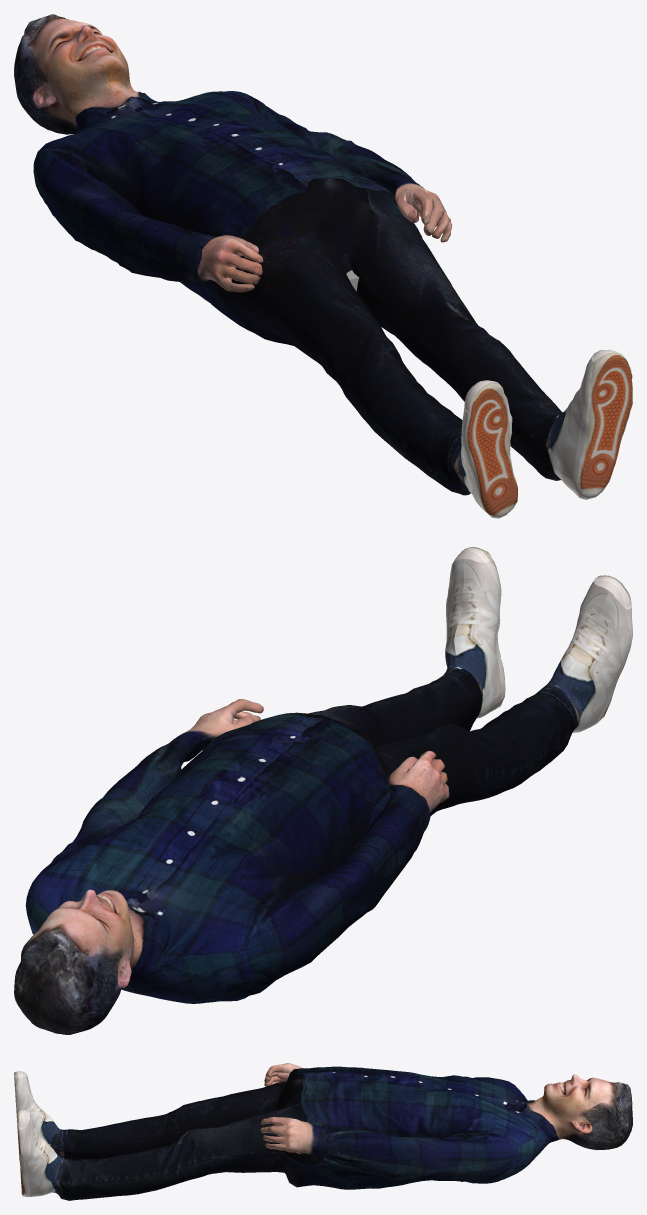
The picture shows the model from 3 angles, top to bottom: view 1: azimuth 30°, elevation 25°; view 2: azimuth 150°, elevation 25°; view 3: azimuth 270°, elevation 25°; orthographic projection. The views are drawn at different scales.
Visible parts, largest first — view 1: patrick.001_geometry3; view 2: patrick.001_geometry3; view 3: patrick.001_geometry3.
Boxes of the visible parts, left/top/right/bottom form: patrick.001_geometry3: left=14, top=14, right=632, bottom=518; patrick.001_geometry3: left=14, top=547, right=632, bottom=1034; patrick.001_geometry3: left=14, top=1063, right=632, bottom=1200.
Bounding box in the file's own units: 19.67 × 12.67 × 65.12.
2 materials, 1 textured.
